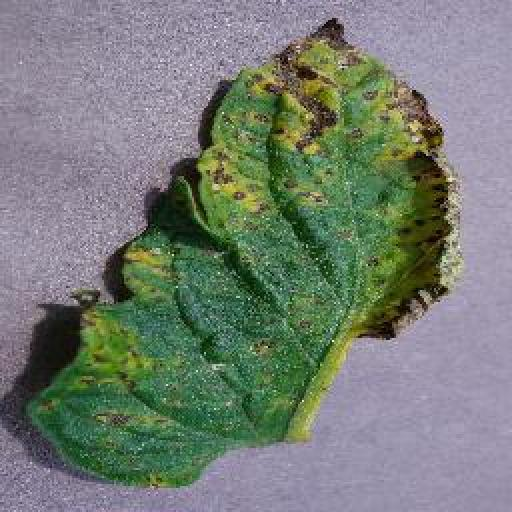Septoria: (23, 14, 459, 490)
